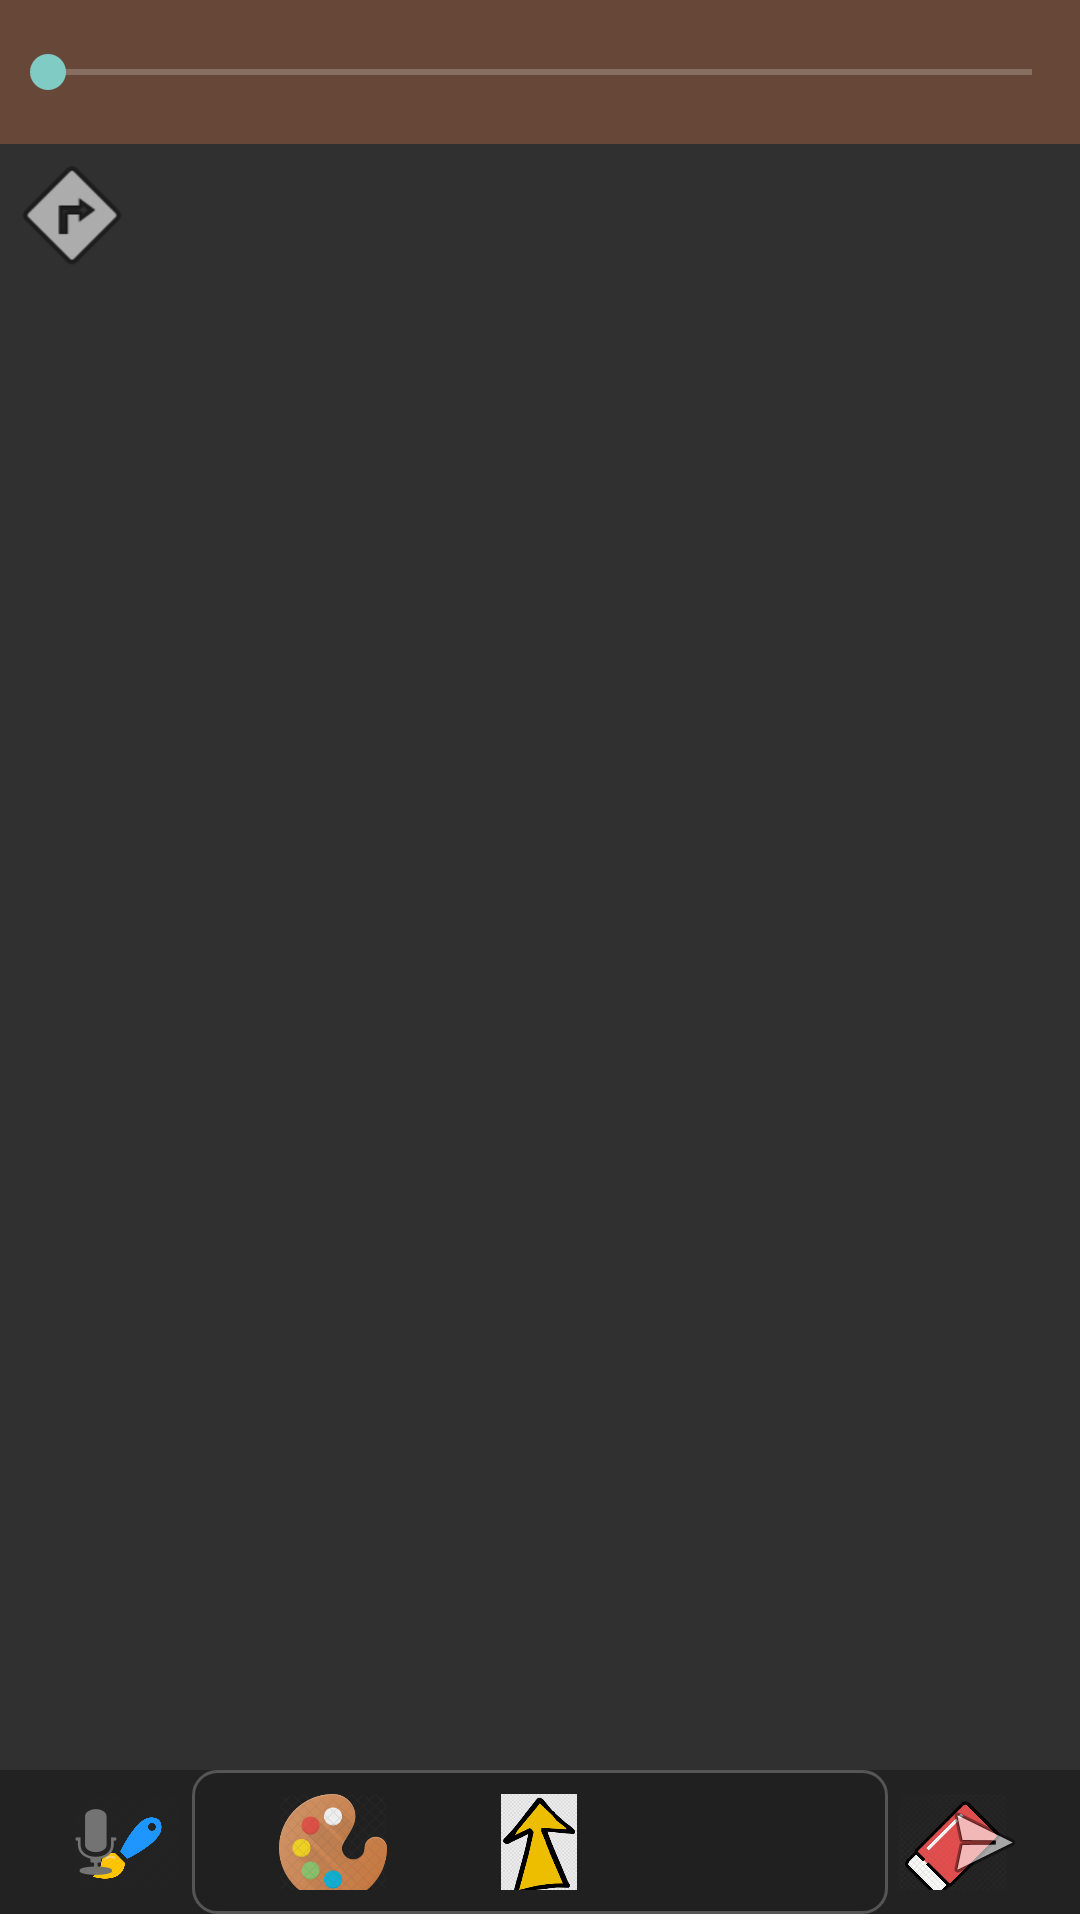

Icon bounding boxes for this 1080w x 1920h phone screenshot, format {"x1": x1, "y1": y1, "x2": x2, "y2": y2}:
colorpalette: {"x1": 279, "y1": 1794, "x2": 387, "y2": 1890}
directions: {"x1": 27, "y1": 171, "x2": 117, "y2": 260}
uparrow: {"x1": 501, "y1": 1794, "x2": 577, "y2": 1890}
